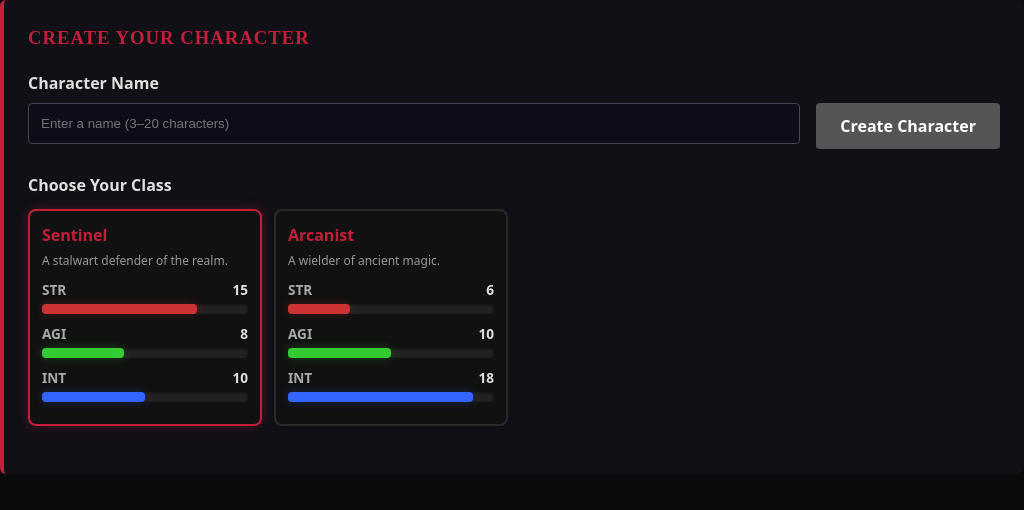
it: CharacterCreator › validates name — too short
Check: the button with test id "class-card-1" is shown, box x1=28 y1=209 x2=262 y2=426
Type "Hi" into the field with placeholder "3.20 characters". click: (414, 123)
box: x1=28 y1=103 x2=800 y2=144
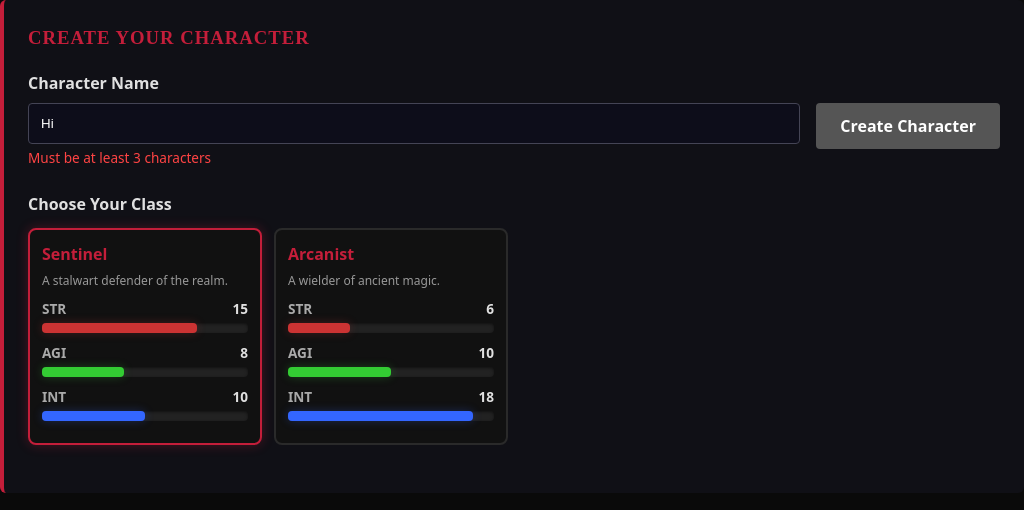
Check: the text with test id "name-error" shows "at least 3", box x1=28 y1=148 x2=211 y2=167
